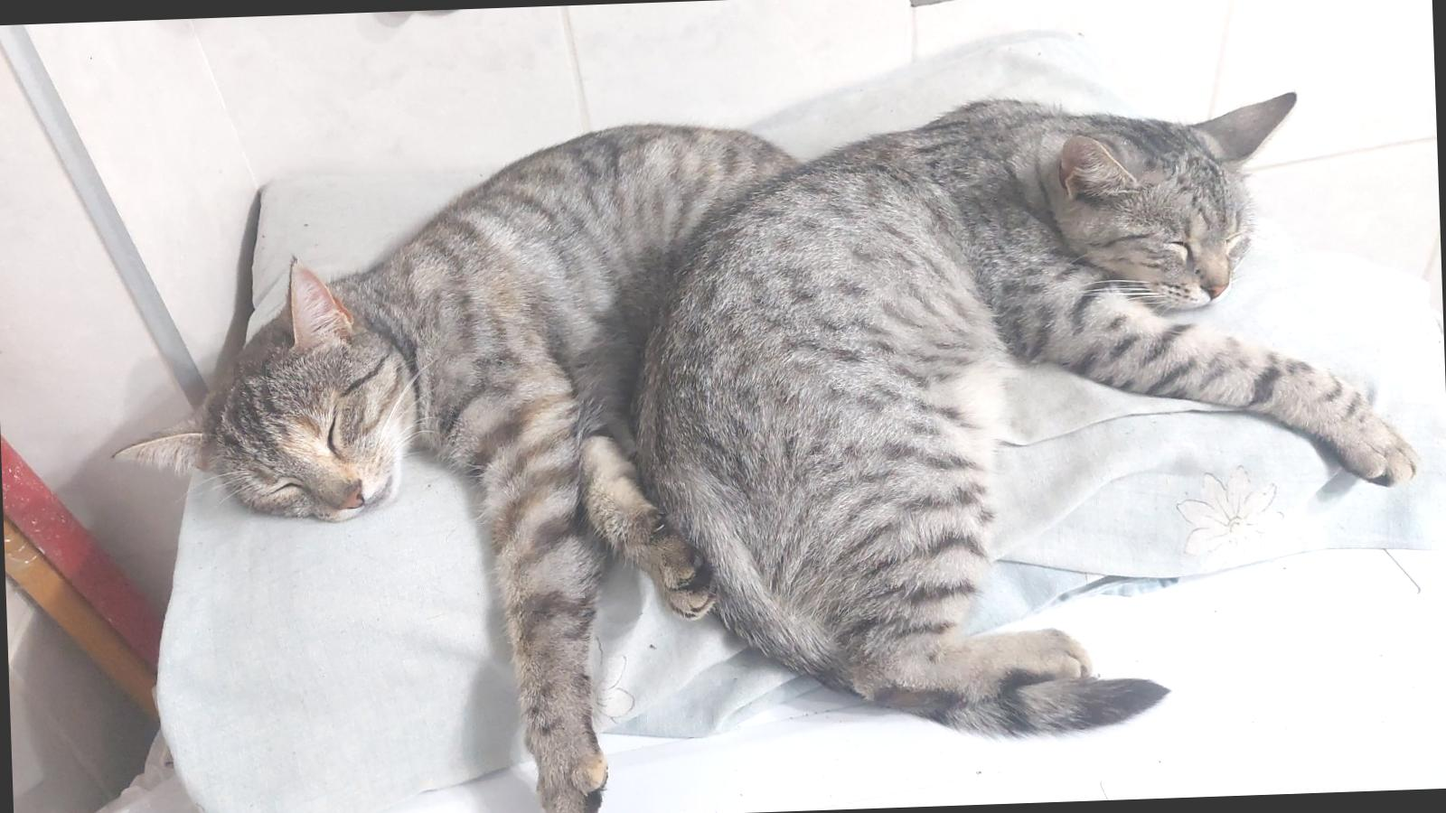macka: (638, 85, 1427, 743), (99, 120, 838, 813)
